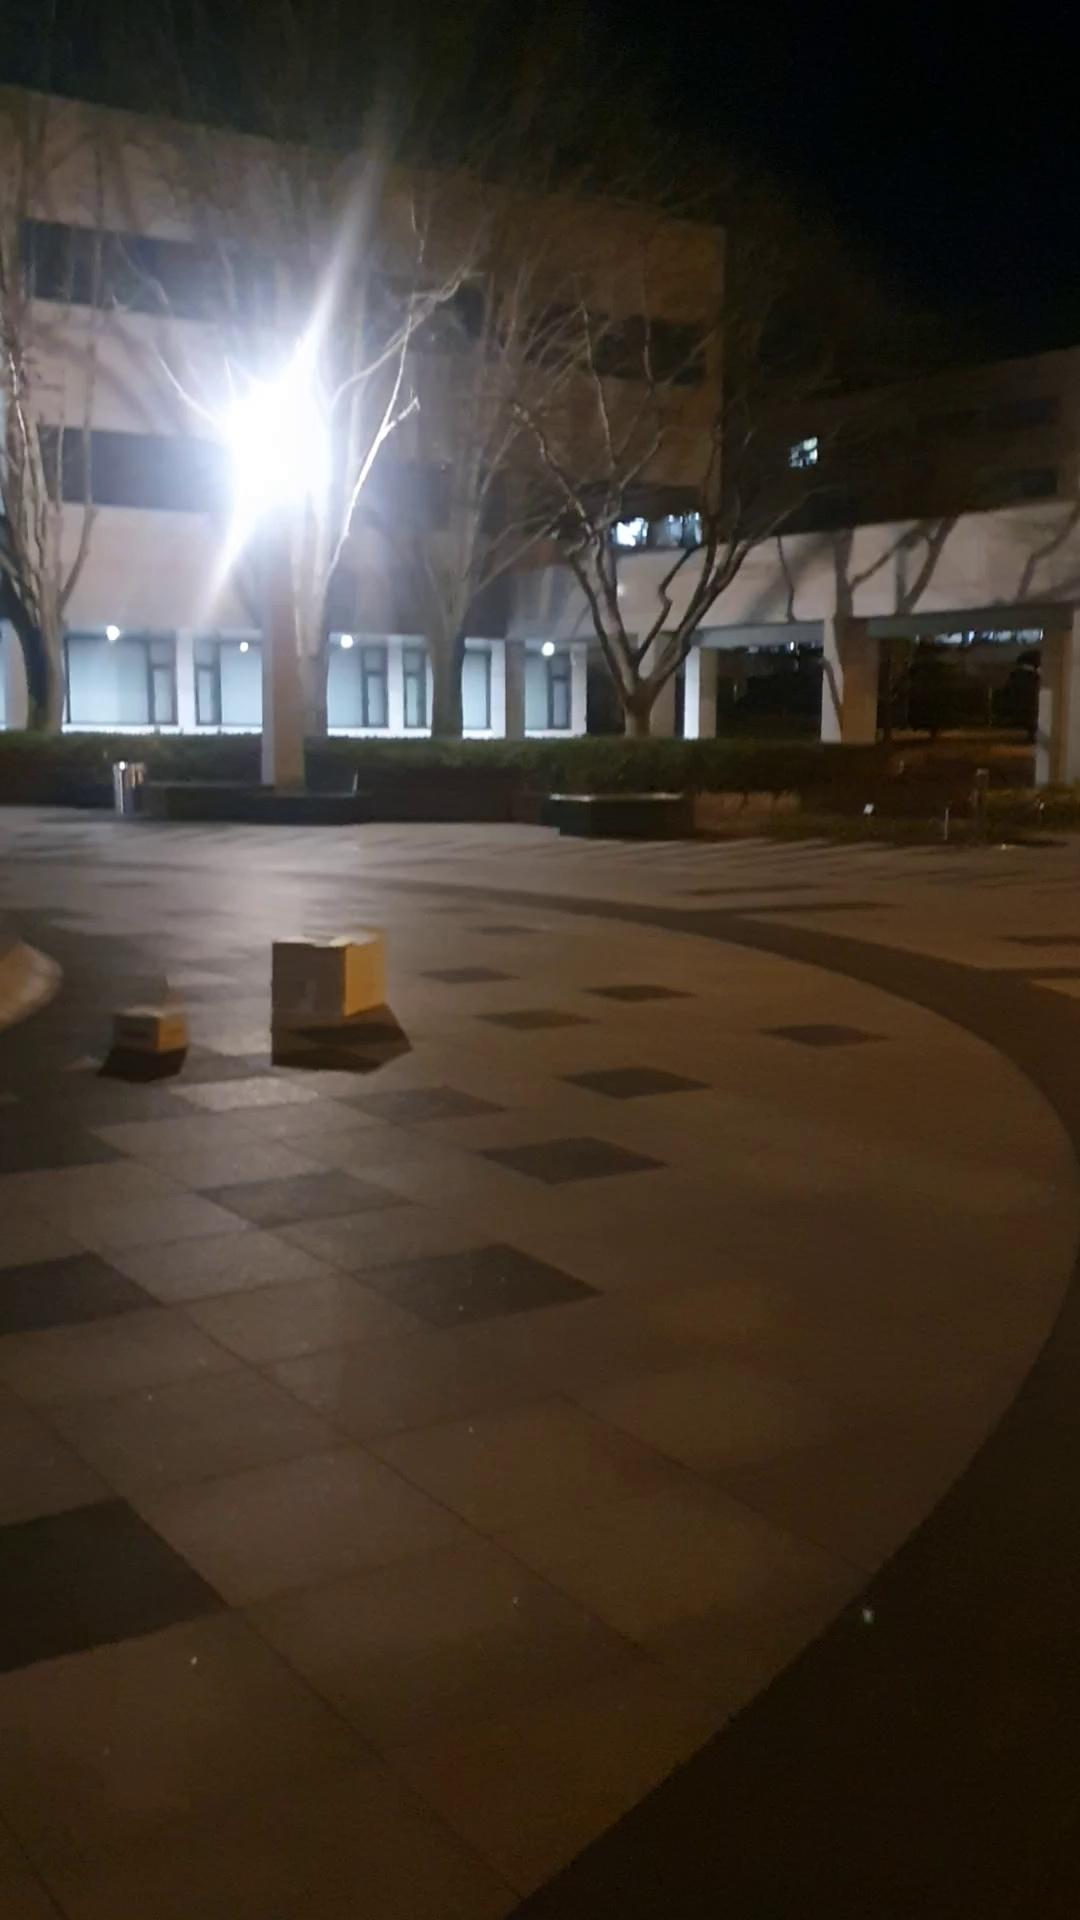Box: (262, 928, 397, 1043), (105, 1005, 203, 1067)
